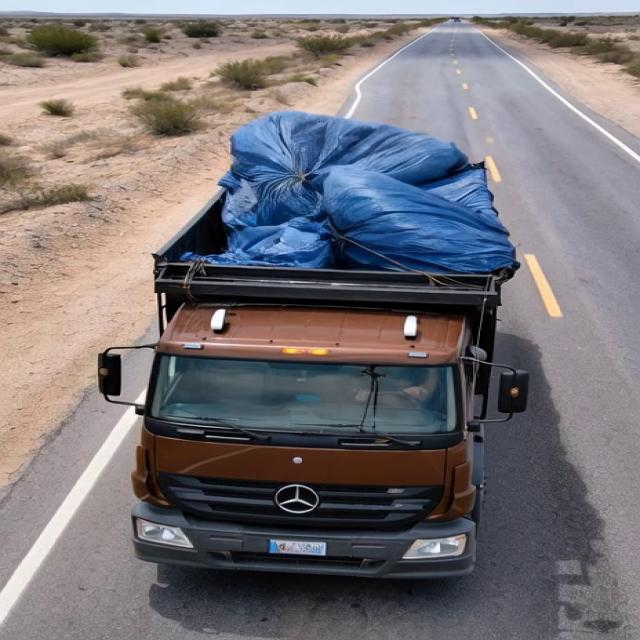Box: (125, 99, 520, 289)
Truck: (93, 77, 547, 594)
